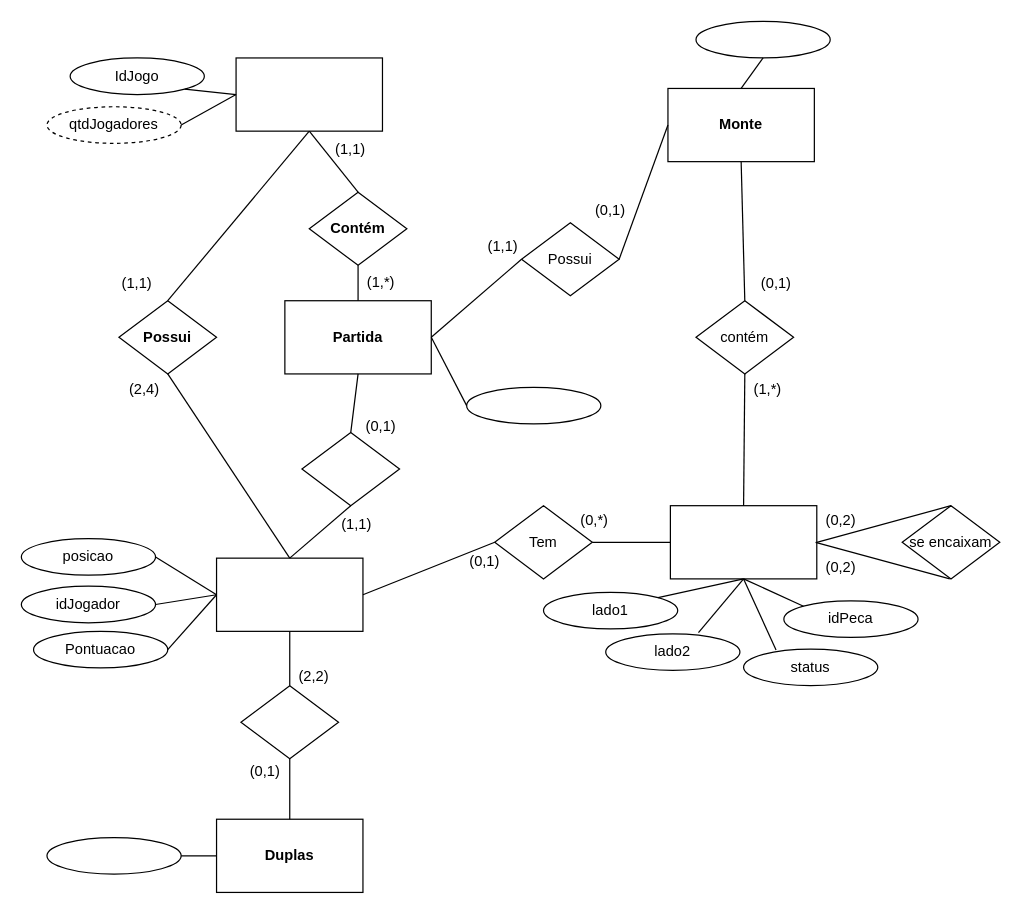
This 1021x914 diagram has some shape labels left out. The shapes that lost their labels are listed below. From the top down, each one's centre as x and y in pixels, then its label:
the point at 762,39: IdMonte
the point at 308,94: Jogo
the point at 533,405: IdPartida
the point at 350,468: Finaliza
the point at 743,541: Peças
the point at 289,594: Jogador
the point at 289,721: Forma
the point at 113,855: idDupla
